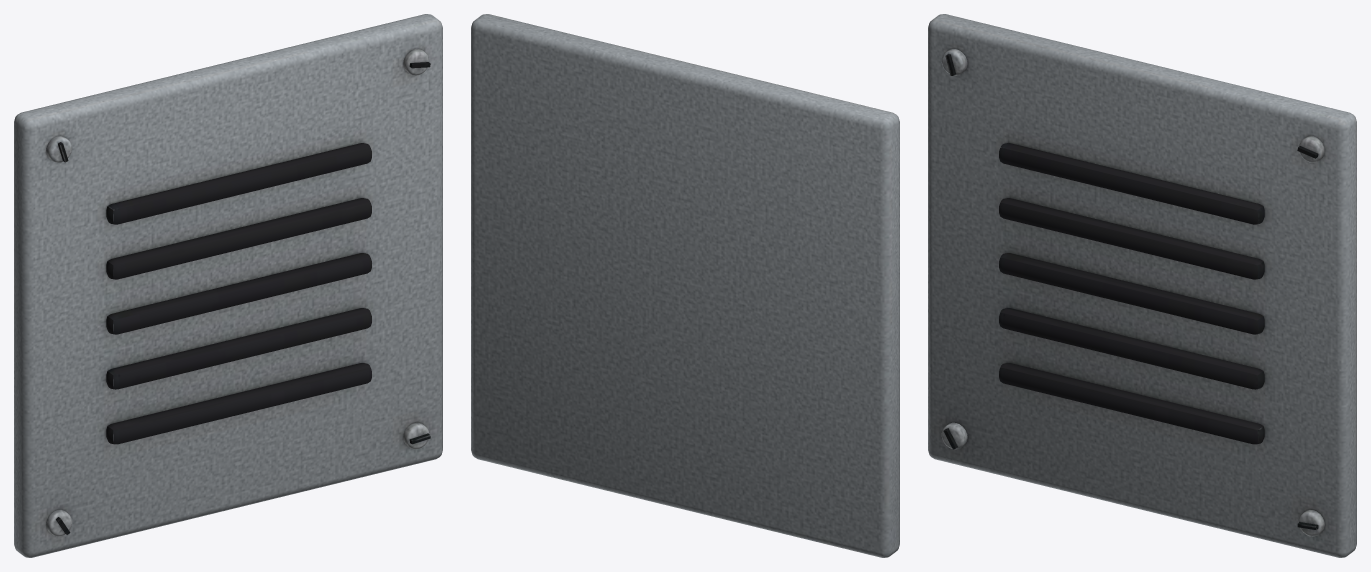
File: blank.glb
3 views of the same model, side by side, from view 1: azimuth 30°, elevation 25°; view 2: azimuth 150°, elevation 25°; view 3: azimuth 330°, elevation 25° (orthographic).
Visible parts, largest first — view 1: blank; view 2: blank; view 3: blank.
Part boxes in pixels (x1,y1,x2,y2): blank: (14, 14, 442, 557); blank: (471, 14, 899, 557); blank: (928, 14, 1356, 557).
Size of the model in its own units: 0.8 by 0.8 by 0.075.
Materials: 1 (1 with a texture image).
